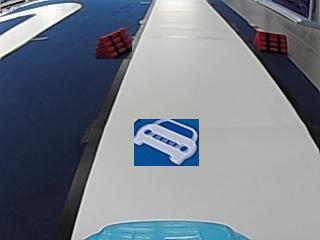bomb: (252, 30, 288, 52)
